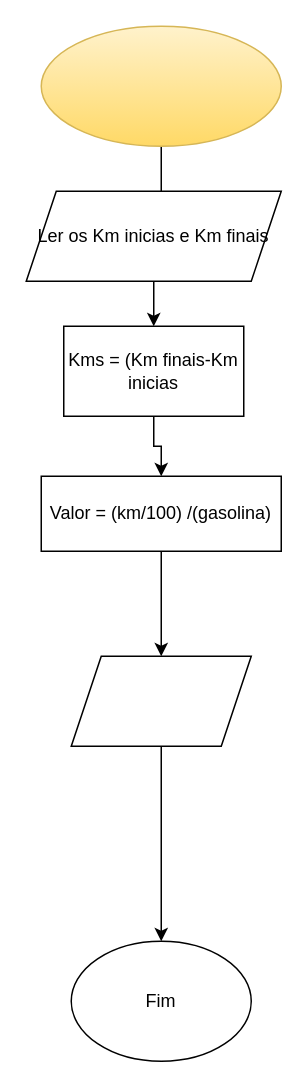
Some shapes in this 308 by 1088 pixel diagram are drawn without their labels. The shapes that lost their labels are listed below. From the top down, each one's centre as x and y in pixels, then its label:
At point (160, 85): "Inicio".
At point (160, 700): "Escrever Valor".
